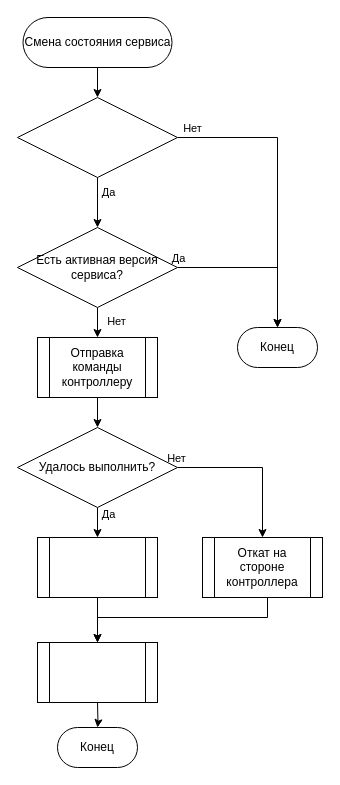
This 340x785 diagram has some shape labels left out. Here are the shapes that lost their labels. From the top down, the centre of each, then its label:
At [97,137]: "Переход в состояние допустим?".
At [97,567]: "Обновление состояния в БД".
At [97,672]: "Запись события".
